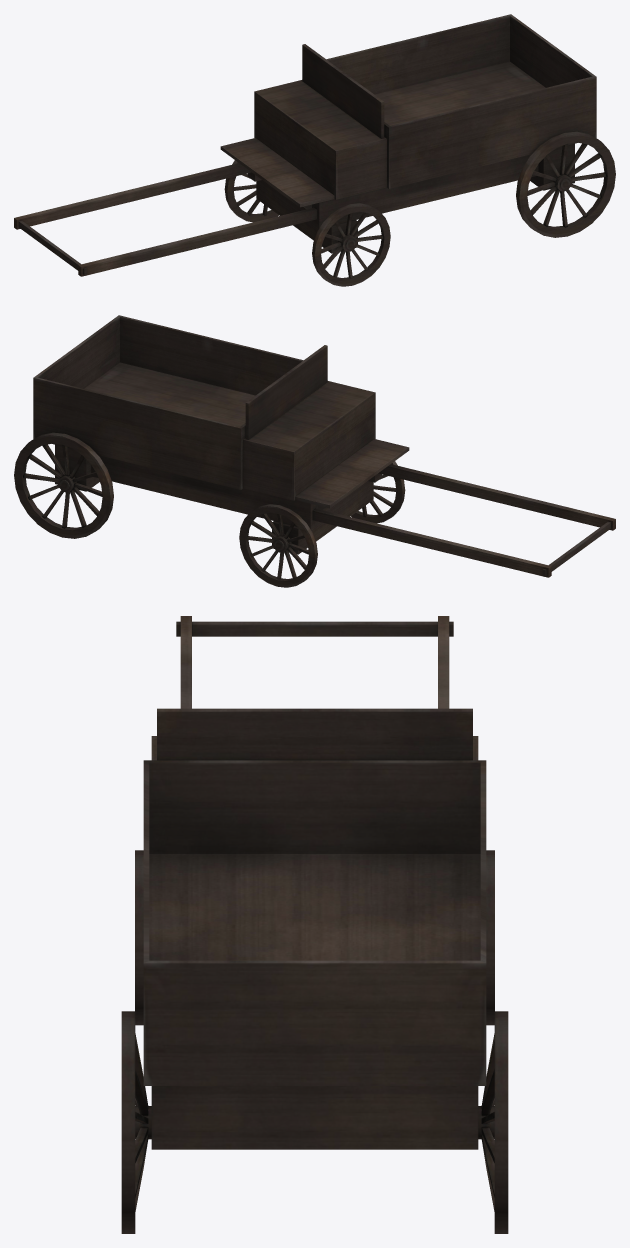
File: B2_carriage_00.FBX
3 views of the same model, one above another, from view 1: azimuth 30°, elevation 25°; view 2: azimuth 150°, elevation 25°; view 3: azimuth 270°, elevation 25° (orthographic). The views are drawn at different scales.
Parts seen in each view (by area): view 1: B2_carriage; view 2: B2_carriage; view 3: B2_carriage.
Part boxes in pixels (left/top/right/bottom): B2_carriage: left=14, top=14, right=615, bottom=286; B2_carriage: left=14, top=315, right=615, bottom=587; B2_carriage: left=121, top=616, right=508, bottom=1233.
Bounding box in the file's own units: 264 × 82.96 × 85.05.
Materials: 1 (1 with a texture image).
